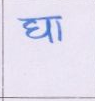aa_matra: (55, 20, 62, 40)
